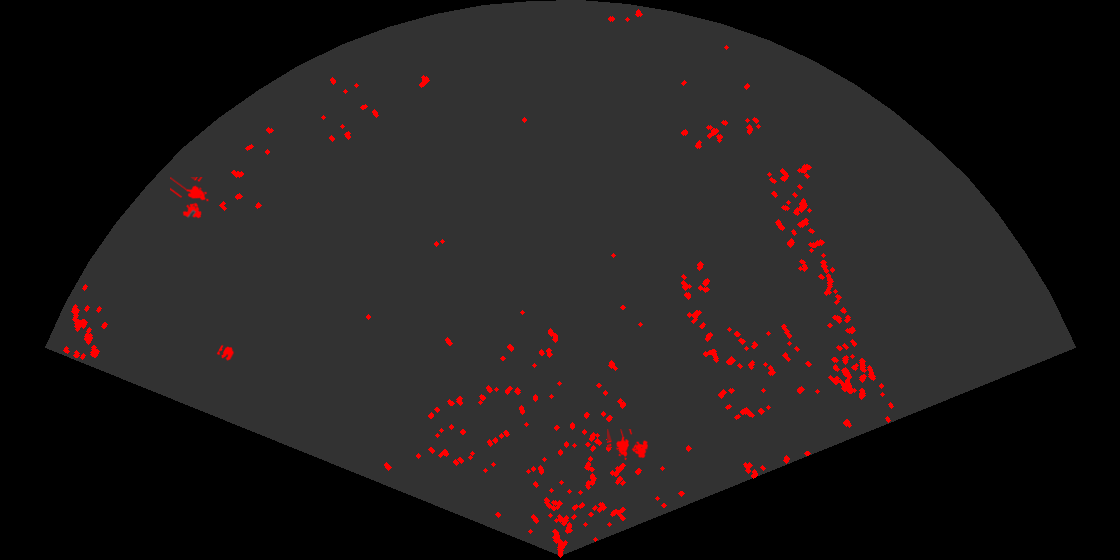ball: (215, 343, 236, 362)
cage: (170, 177, 211, 220), (607, 429, 650, 462)
